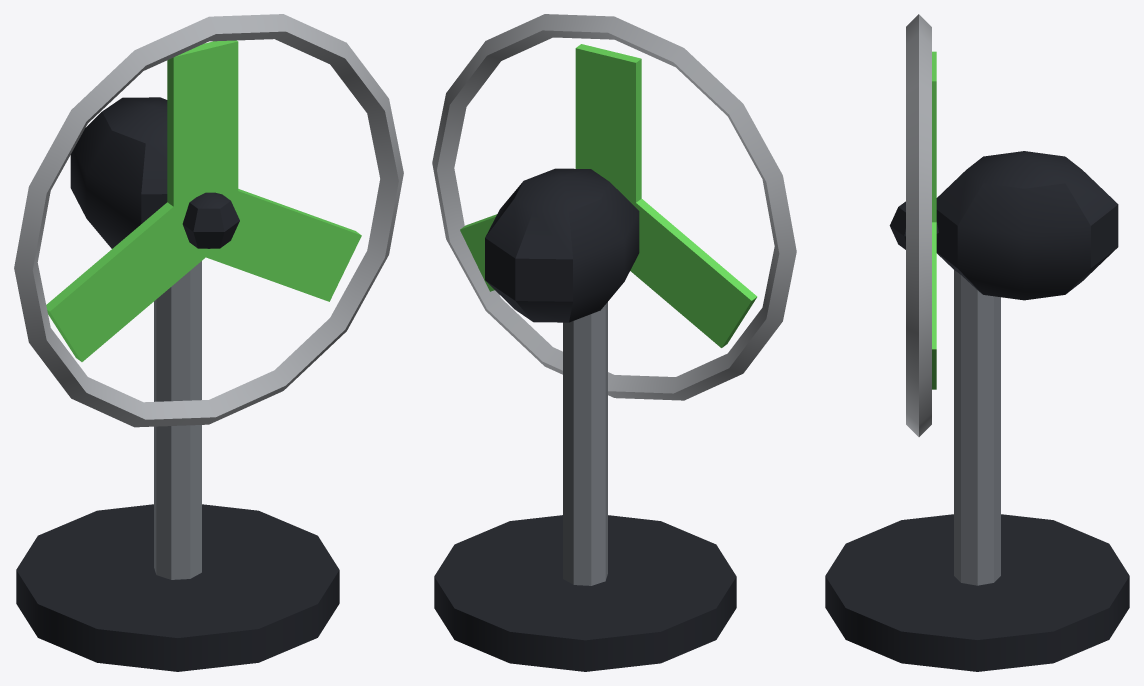
File: desk_fan.glb
The picture shows the model from 3 angles, left to right: view 1: azimuth 30°, elevation 25°; view 2: azimuth 150°, elevation 25°; view 3: azimuth 270°, elevation 25°; orthographic projection. The views are drawn at different scales.
Visible parts, largest first — view 1: body, anim_spin_fan; view 2: body, anim_spin_fan; view 3: body, anim_spin_fan.
Boxes of the visible parts, bbox=[...] form: body: bbox=[14, 14, 403, 671]; anim_spin_fan: bbox=[46, 40, 361, 361]; body: bbox=[432, 14, 796, 671]; anim_spin_fan: bbox=[460, 44, 757, 347]; body: bbox=[825, 14, 1129, 671]; anim_spin_fan: bbox=[932, 51, 936, 389].
Bounding box in the file's own units: 0.724 × 1.08 × 0.52.
